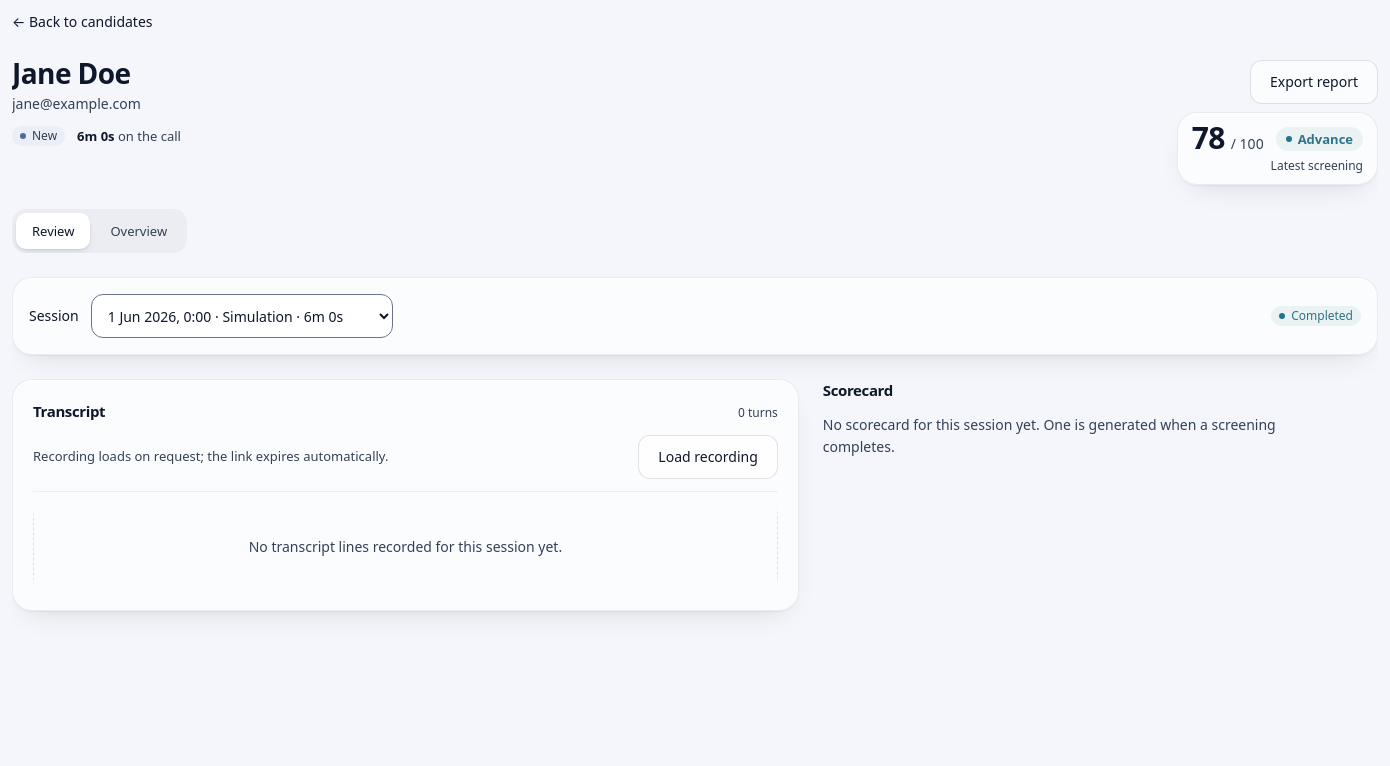
Scenario: CandidateDetailPage › shows the session scorecard in the Review tab
Check: the heading "Jane Doe" is shown, box [12, 54, 130, 92]
Click the tab "Review" at (53, 231), box [16, 213, 90, 249]
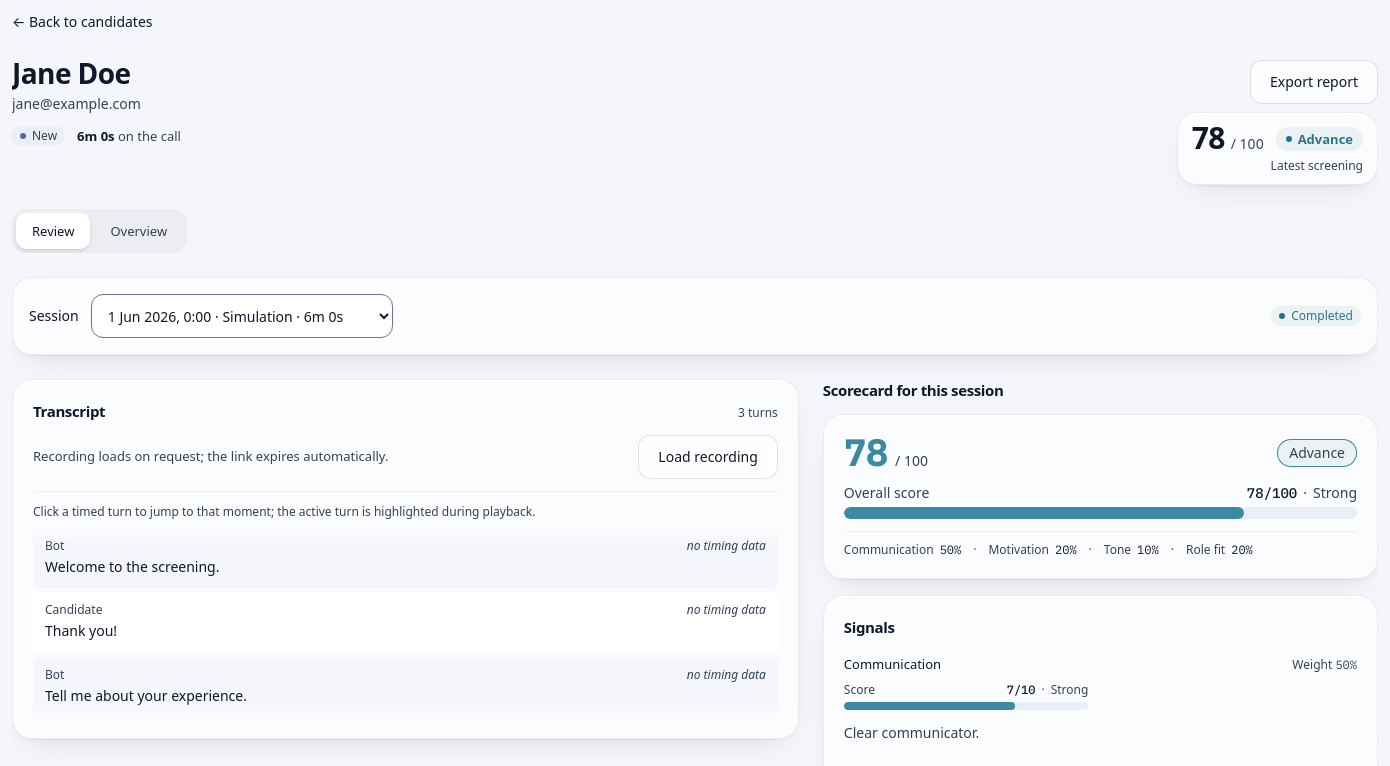
Check: the text "78" in the row of "on the call" is shown, box [1192, 117, 1225, 158]
Check: the heading "Scorecard for this session" is shown, box [823, 380, 1003, 400]
Check: the text "78" below "Scorecard for this session" is shown, box [844, 428, 887, 476]
